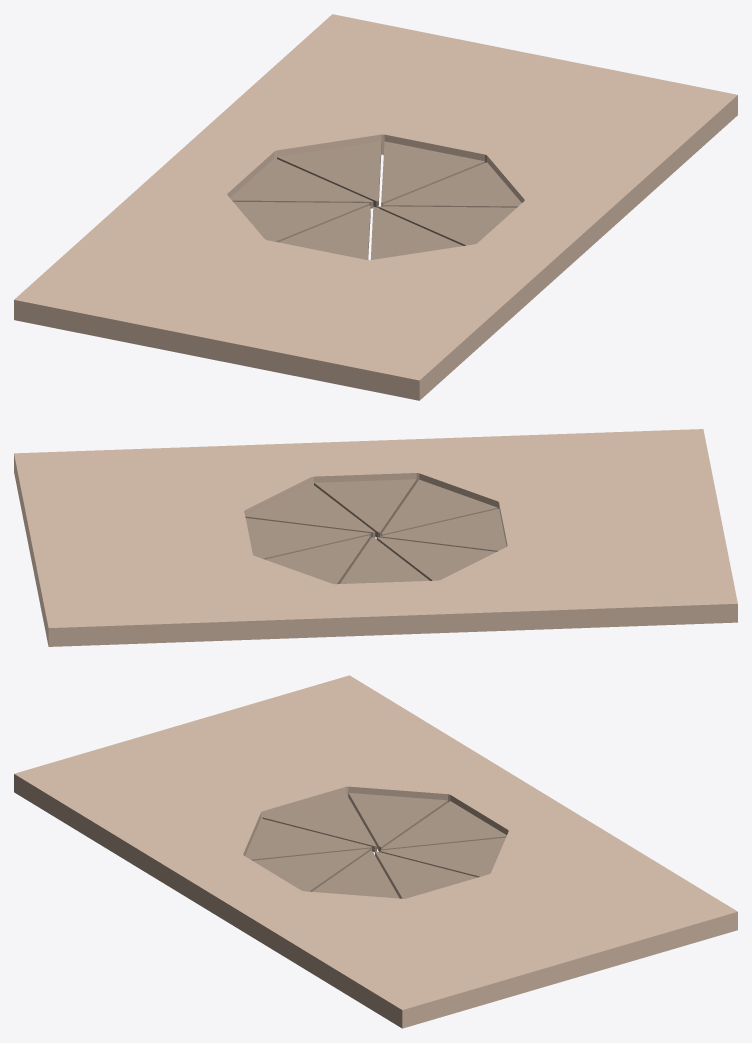
Rendered from CoalHoleHatch.fbx.
3 views of the same model, one above another, from view 1: azimuth 30°, elevation 25°; view 2: azimuth 150°, elevation 25°; view 3: azimuth 270°, elevation 25° (orthographic). The views are drawn at different scales.
Visible parts, largest first — view 1: Plate, Hatch8, Hatch1, Hatch7, Hatch6, Hatch2, Hatch5, Hatch3, Hatch4; view 2: Plate, Hatch5, Hatch6, Hatch4, Hatch3, Hatch7, Hatch2, Hatch8, Hatch1; view 3: Plate, Hatch2, Hatch3, Hatch1, Hatch4, Hatch8, Hatch5, Hatch7, Hatch6.
Boxes of the visible parts, x1,y1,x2,y2 form: Plate: (14,14,737,400); Hatch8: (277,141,381,207); Hatch1: (230,158,373,208); Hatch7: (381,141,484,206); Hatch6: (382,162,521,207); Hatch2: (233,201,369,242); Hatch5: (378,206,516,245); Hatch3: (279,205,370,259); Hatch4: (370,207,462,259); Plate: (14,429,737,646); Hatch5: (314,479,416,537); Hatch6: (245,483,375,537); Hatch4: (381,479,497,535); Hatch3: (381,508,506,551); Hatch7: (245,518,370,559); Hatch2: (376,537,495,580); Hatch8: (265,535,370,584); Hatch1: (340,537,429,583); Plate: (14,675,737,1028); Hatch2: (348,792,447,851); Hatch3: (262,793,376,852); Hatch1: (382,801,506,850); Hatch4: (245,818,371,860); Hatch8: (380,837,505,877); Hatch5: (253,848,369,891); Hatch7: (375,851,477,898); Hatch6: (312,850,399,898).
Size of what is drawn, in the model's own units: 321 by 8.28 by 294.
